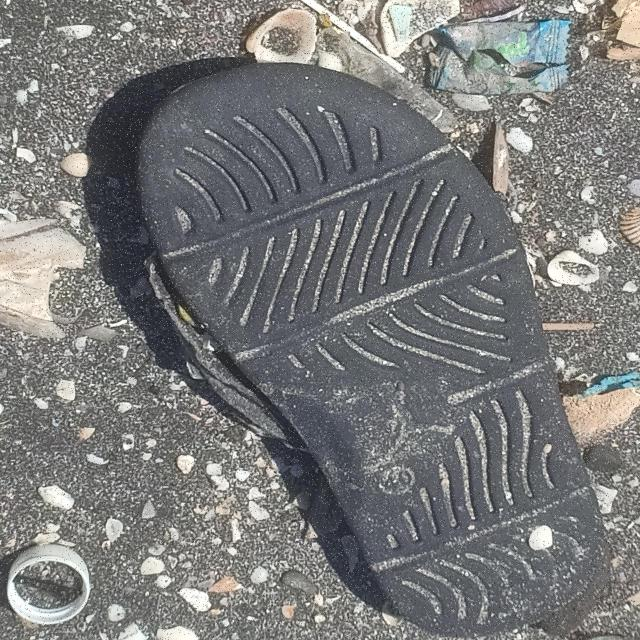plastic_waste: (429, 20, 572, 93), (8, 544, 90, 625)
rubber_waste: (134, 63, 606, 638)
